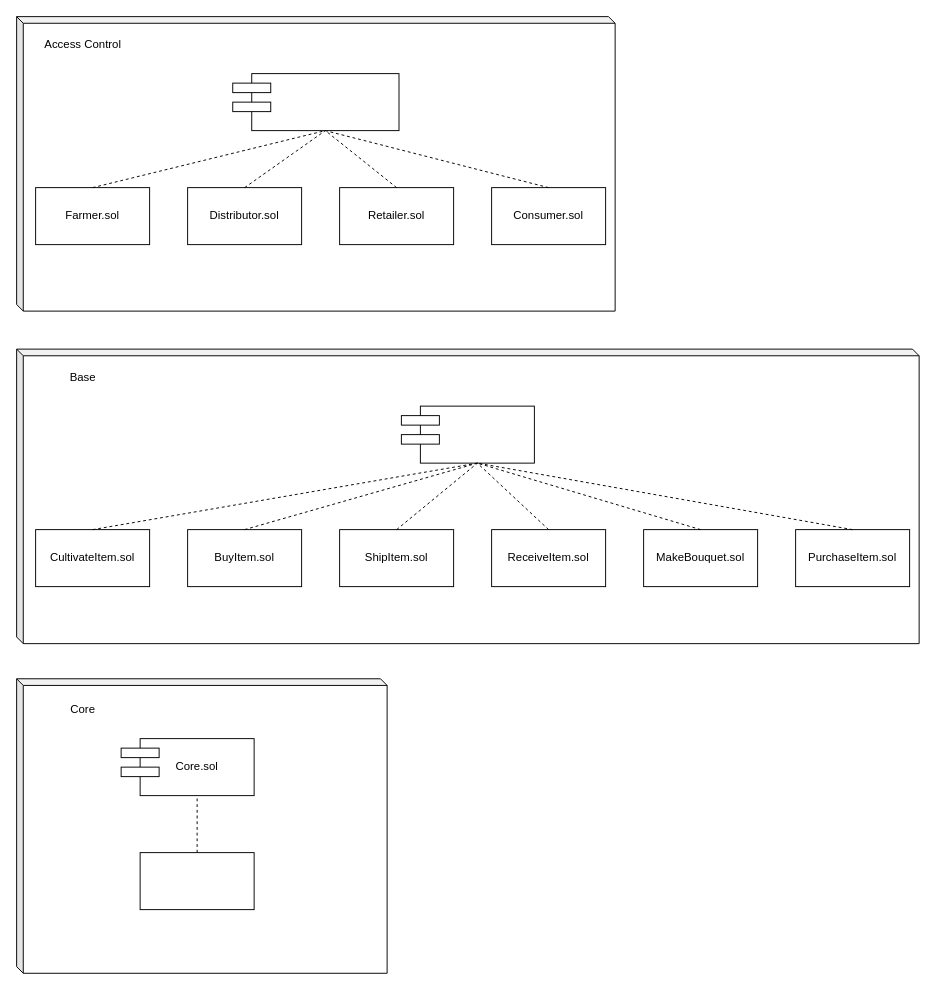
This 936x990 diagram has some shape labels left out. Here are the shapes that lost their labels. From the top down, the box of each, then its label:
(251, 73, 399, 131): AccessControl.sol
(419, 405, 534, 463): Base.sol
(139, 852, 254, 910): Ownable.sol
